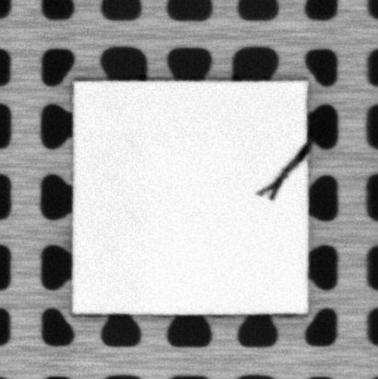DIE_INK: (254, 143, 308, 204)
